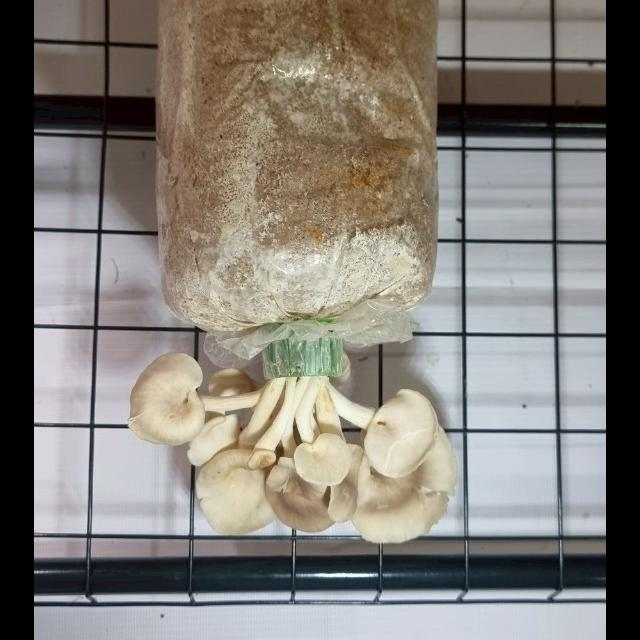normal: (329, 343, 459, 551), (119, 339, 277, 449), (191, 437, 285, 534), (261, 445, 356, 530), (289, 378, 354, 492)
